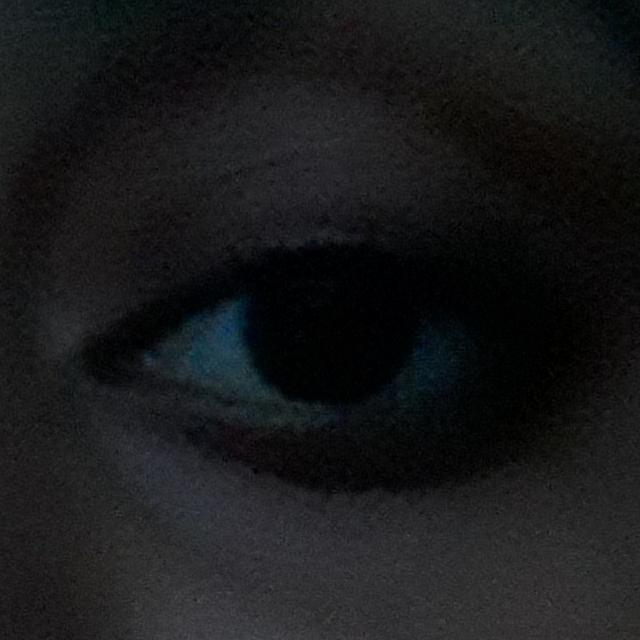eye: (146, 266, 498, 412)
iris: (251, 267, 407, 405)
